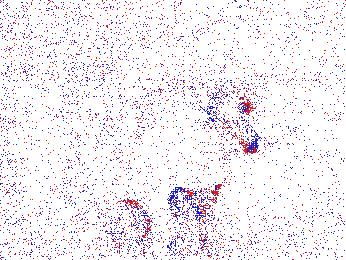flame jellyfish: (203, 93, 260, 155), (167, 184, 222, 230), (99, 201, 149, 242)
